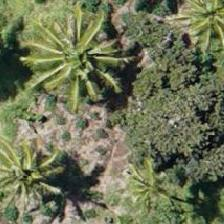coconut_tree: (107, 138, 197, 223), (0, 122, 69, 212), (163, 0, 223, 65)
